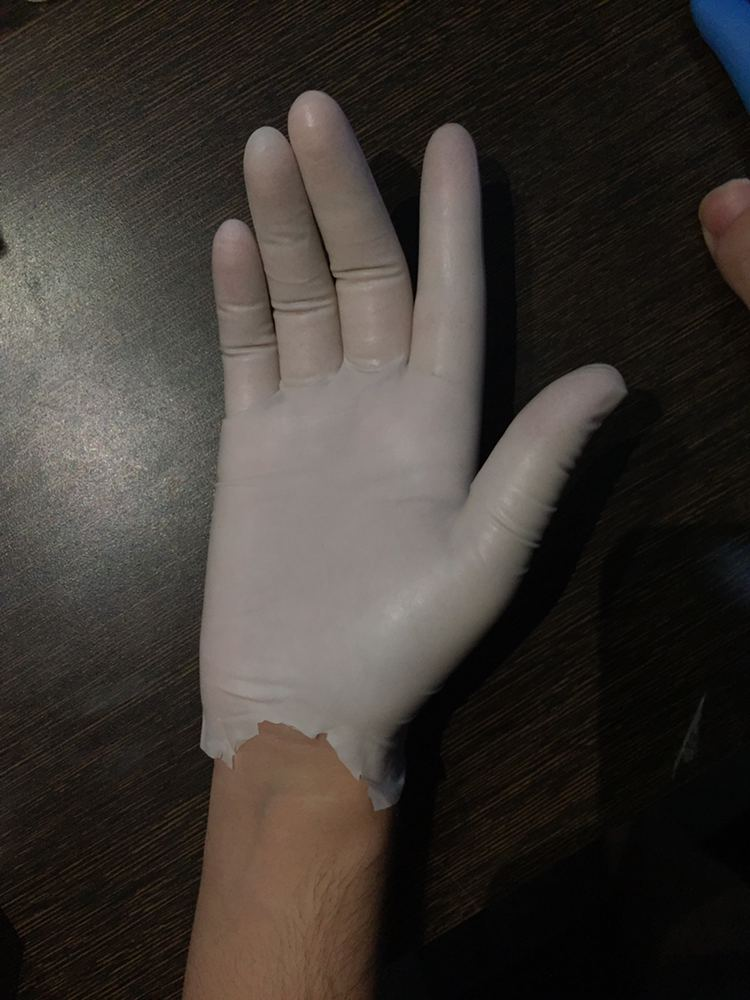defected: (124, 86, 665, 851)
